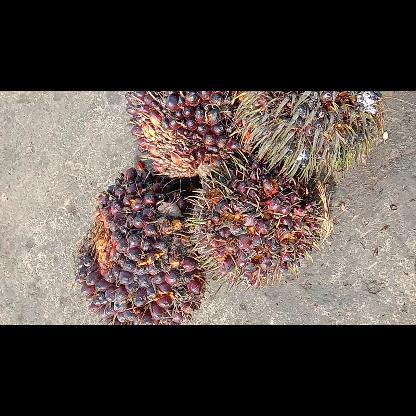Kurang masak: (194, 168, 324, 284), (126, 90, 240, 180)
TBS abnormal: (235, 90, 386, 178)
TBS masak: (76, 164, 206, 324)
